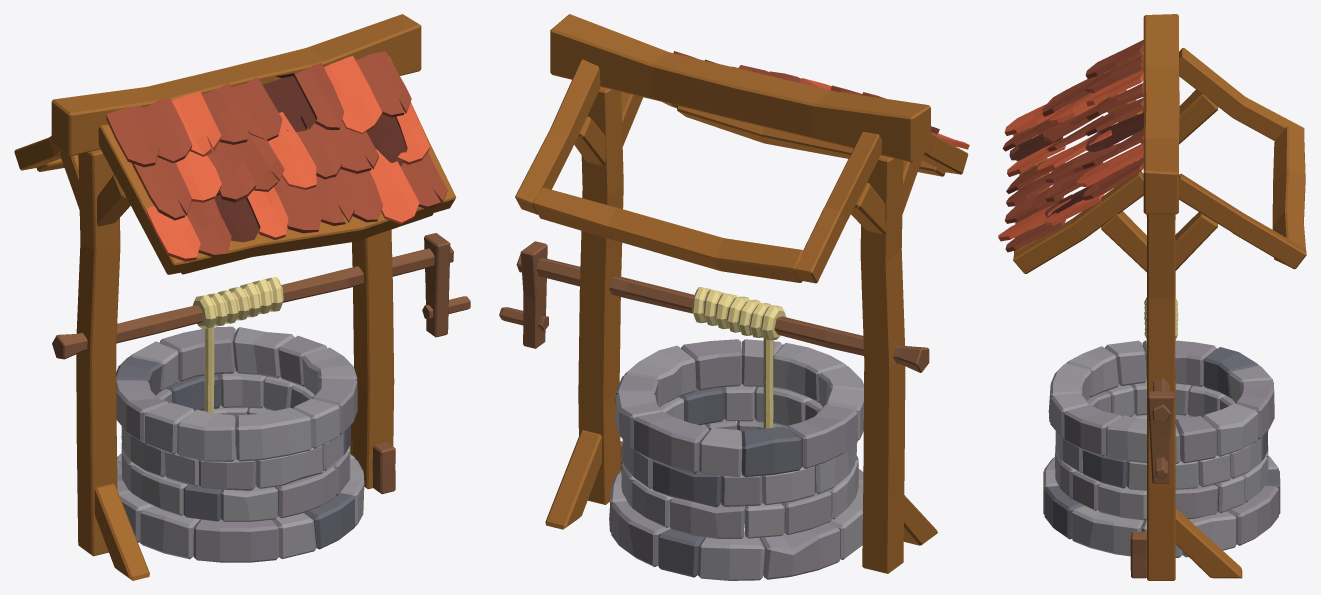
File: Brunnen.fbx
The picture shows the model from 3 angles, left to right: view 1: azimuth 30°, elevation 25°; view 2: azimuth 150°, elevation 25°; view 3: azimuth 270°, elevation 25°; orthographic projection. The views are drawn at different scales.
Visible parts, largest first — view 1: Cube.003; view 2: Cube.003; view 3: Cube.003.
Boxes of the visible parts, <box> form: Cube.003: <box>14,14,470,580</box>; Cube.003: <box>499,14,969,580</box>; Cube.003: <box>998,14,1306,580</box>.
Size of the model in its own units: 414 by 438 by 290.
